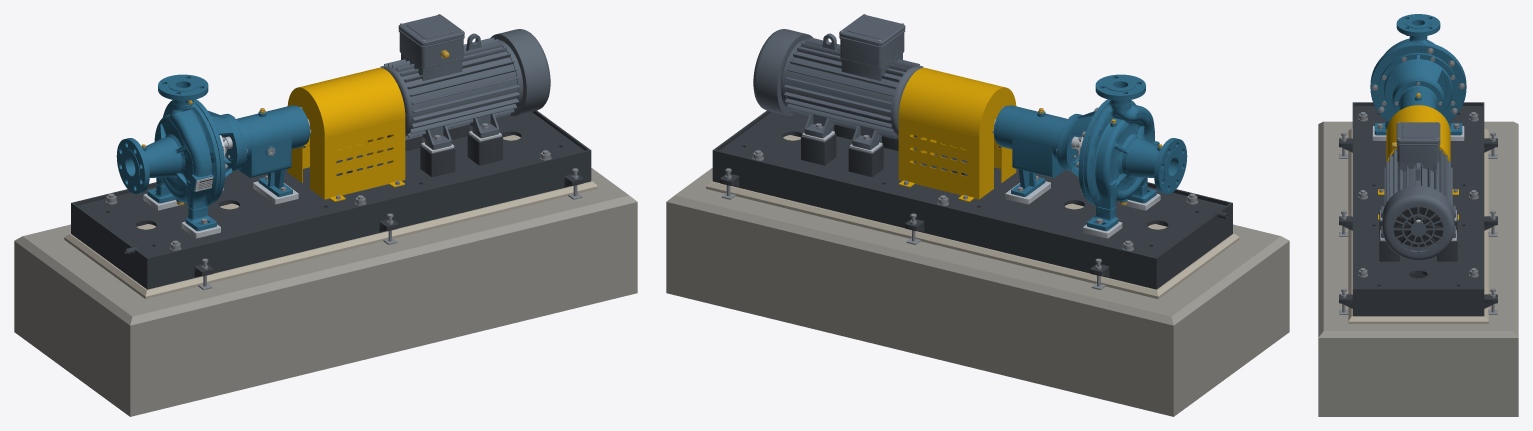
The picture shows the model from 3 angles, left to right: view 1: azimuth 30°, elevation 25°; view 2: azimuth 150°, elevation 25°; view 3: azimuth 270°, elevation 25°; orthographic projection. The views are drawn at different scales.
Parts seen in each view (by area): view 1: foundation, baseplate, coupling-guard, motor-frame, grout, volute-casing, bearing-housing, mounting-pads, motor-terminal-box, motor-fan-cover, suction-nozzle, discharge-nozzle (+3 smaller); view 2: foundation, baseplate, coupling-guard, motor-frame, grout, volute-casing, bearing-housing, mounting-pads, motor-terminal-box, motor-fan-cover, suction-nozzle, discharge-nozzle (+3 smaller); view 3: foundation, baseplate, motor-fan-cover, grout, bearing-frame, motor-frame, casing-cover, motor-terminal-box, coupling-guard, bearing-housing, motor-fan, mounting-pads (+6 smaller).
Part boxes in pixels (x1=…): foundation: x1=14, y1=168, x2=637, y2=416; baseplate: x1=71, y1=110, x2=591, y2=289; coupling-guard: x1=287, y1=67, x2=405, y2=201; motor-frame: x1=380, y1=33, x2=519, y2=149; grout: x1=64, y1=135, x2=597, y2=299; volute-casing: x1=154, y1=100, x2=220, y2=209; bearing-housing: x1=223, y1=105, x2=307, y2=196; mounting-pads: x1=143, y1=125, x2=502, y2=238; motor-terminal-box: x1=398, y1=14, x2=464, y2=68; motor-fan-cover: x1=490, y1=29, x2=550, y2=115; suction-nozzle: x1=116, y1=138, x2=177, y2=194; discharge-nozzle: x1=158, y1=74, x2=208, y2=105; foundation: x1=666, y1=168, x2=1289, y2=416; baseplate: x1=712, y1=110, x2=1232, y2=289; coupling-guard: x1=898, y1=67, x2=1016, y2=201; motor-frame: x1=784, y1=33, x2=923, y2=149; grout: x1=706, y1=135, x2=1239, y2=299; volute-casing: x1=1083, y1=100, x2=1159, y2=209; bearing-housing: x1=996, y1=105, x2=1080, y2=196; mounting-pads: x1=801, y1=125, x2=1160, y2=238; motor-terminal-box: x1=839, y1=14, x2=905, y2=68; motor-fan-cover: x1=753, y1=29, x2=813, y2=115; suction-nozzle: x1=1126, y1=138, x2=1187, y2=194; discharge-nozzle: x1=1095, y1=74, x2=1145, y2=105; foundation: x1=1318, y1=121, x2=1518, y2=416; baseplate: x1=1339, y1=102, x2=1497, y2=316; motor-fan-cover: x1=1382, y1=185, x2=1454, y2=260; grout: x1=1348, y1=128, x2=1488, y2=323; bearing-frame: x1=1379, y1=52, x2=1457, y2=116; motor-frame: x1=1381, y1=149, x2=1455, y2=238; casing-cover: x1=1370, y1=43, x2=1466, y2=122; motor-terminal-box: x1=1391, y1=122, x2=1440, y2=162; coupling-guard: x1=1378, y1=105, x2=1458, y2=219; bearing-housing: x1=1393, y1=79, x2=1443, y2=112; motor-fan: x1=1393, y1=207, x2=1443, y2=246; mounting-pads: x1=1372, y1=126, x2=1464, y2=261.
Bounding box in the file's own units: 1.92 × 0.95 × 0.76.
